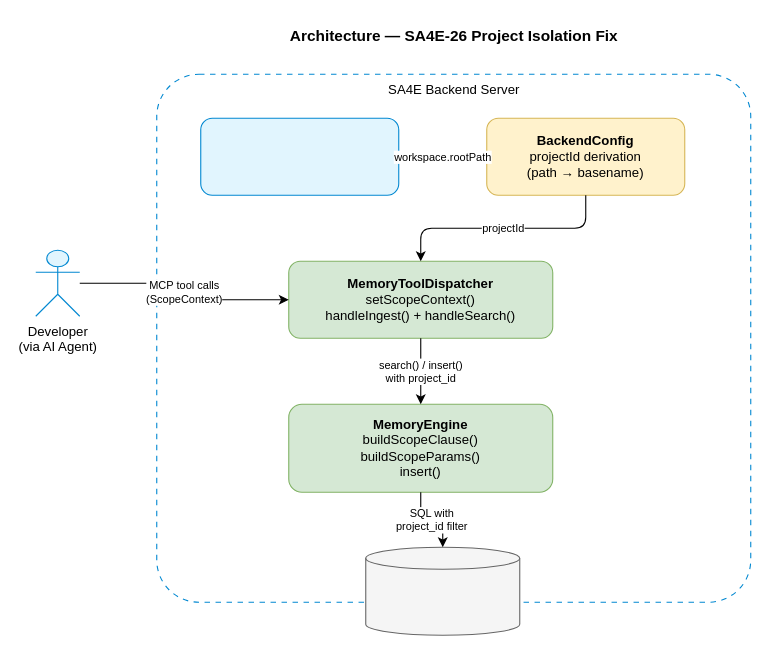
This 770x655 diagram has some shape labels left out. Each missing label, with the centre of its shape:
"IDE Extension Derives projectId from workspace path" goes at point (299, 156).
"SQLite DB knowledge_entries + project_id column" goes at point (442, 590).
